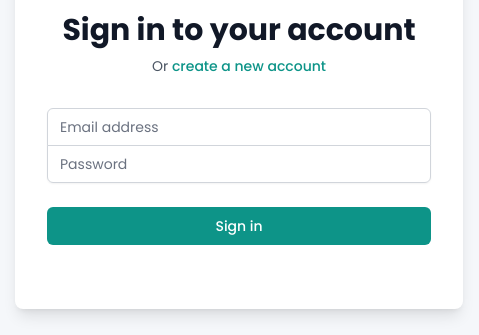
Scenario: Login Component › shows loading state during form submission
// Fill and submit the form
In the field labelled "Email address": [239, 127] box 47,108 -> 431,146, type "test@example.com"
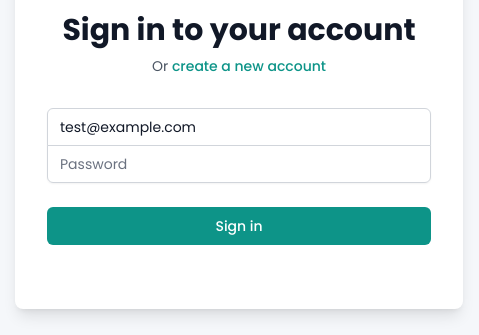
In the password field labelled "Password": [239, 164] box 47,145 -> 431,183, type "password123"
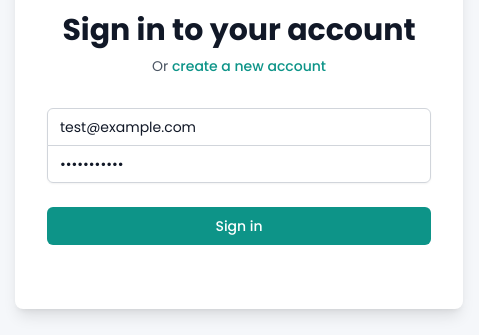
Click the button "Sign in": [239, 226] box 47,207 -> 431,245
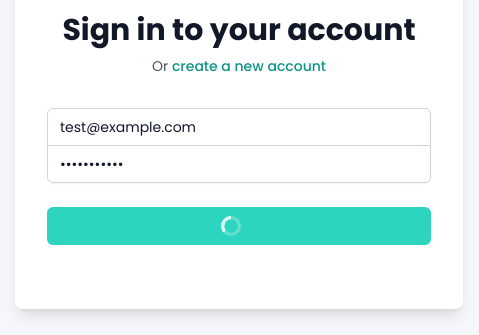
Expected: the button named "sign in" is disabled, 47,207 -> 431,245
